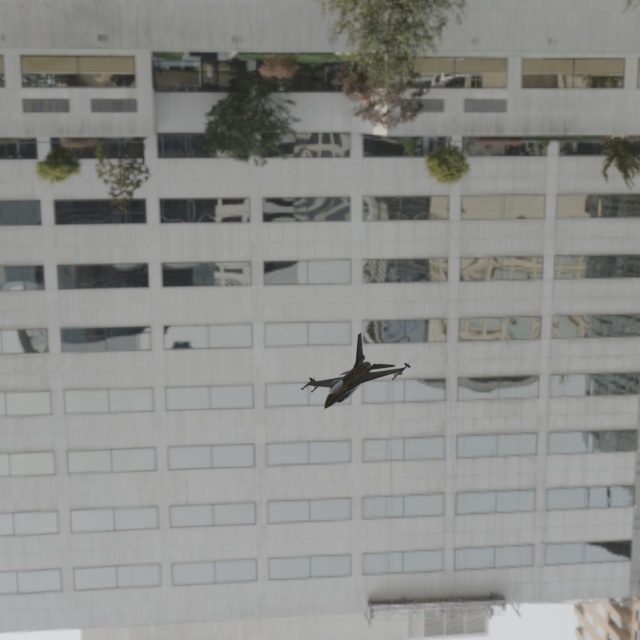model: (263, 324, 417, 427)
